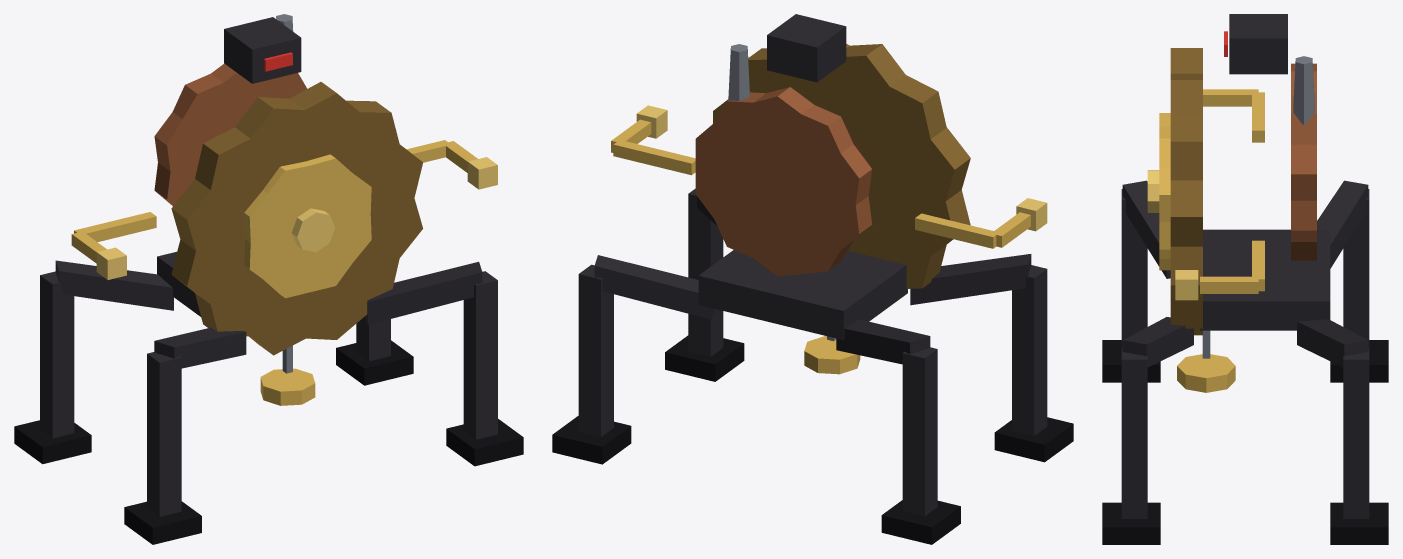
The model's file is ClockmakerAutomaton.glb.
3 views of the same model, side by side, from view 1: azimuth 30°, elevation 25°; view 2: azimuth 150°, elevation 25°; view 3: azimuth 270°, elevation 25° (orthographic). The views are drawn at different scales.
Visible parts, largest first — view 1: ClockmakerAutomaton; view 2: ClockmakerAutomaton; view 3: ClockmakerAutomaton.
Part boxes in pixels (x1,y1,x2,y2): ClockmakerAutomaton: [14, 14, 523, 544]; ClockmakerAutomaton: [552, 14, 1073, 544]; ClockmakerAutomaton: [1102, 14, 1388, 544].
Size of the model in its own units: 7.15 by 7.2 by 4.4.
1 material, 1 textured.
